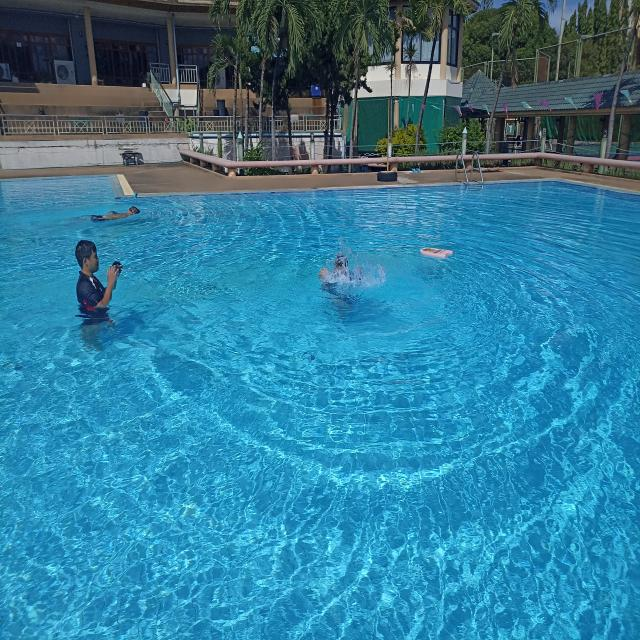Drowning: (312, 241, 370, 308)
Swimming: (72, 235, 122, 322), (76, 204, 141, 223)
